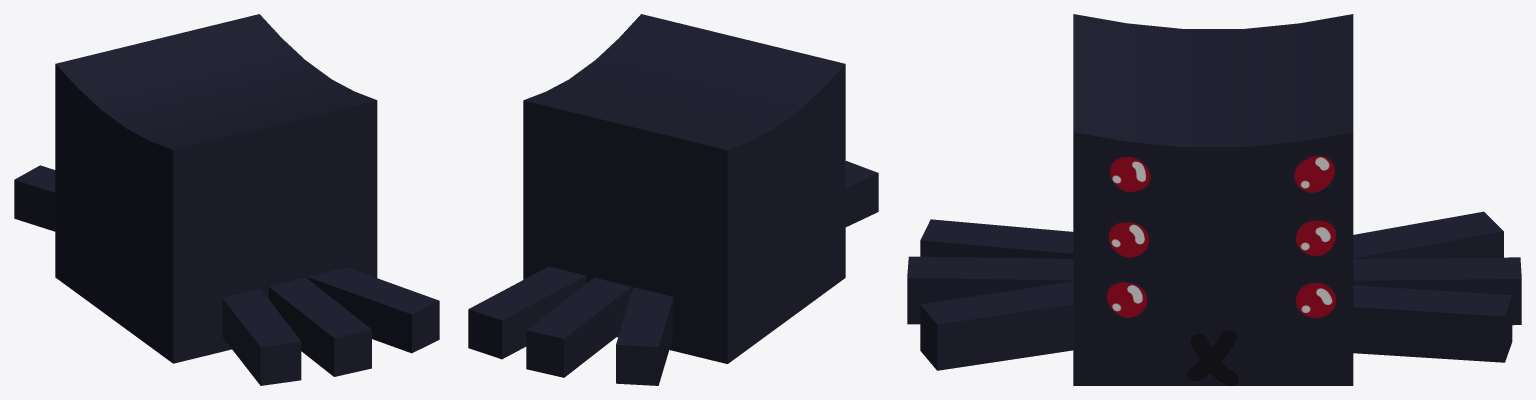
File: spider.fbx
3 renders of one model, left to right at view 1: azimuth 30°, elevation 25°; view 2: azimuth 150°, elevation 25°; view 3: azimuth 270°, elevation 25°, orthographic. The views are drawn at different scales.
Parts seen in each view (by area): view 1: Cube.002; view 2: Cube.002; view 3: Cube.002.
Boxes of the visible parts, box(x1,y1,x2,y2) form: Cube.002: box(14, 14, 439, 385); Cube.002: box(468, 14, 878, 385); Cube.002: box(907, 14, 1521, 385).
Bounding box in the file's own units: 205 × 200 × 439.
